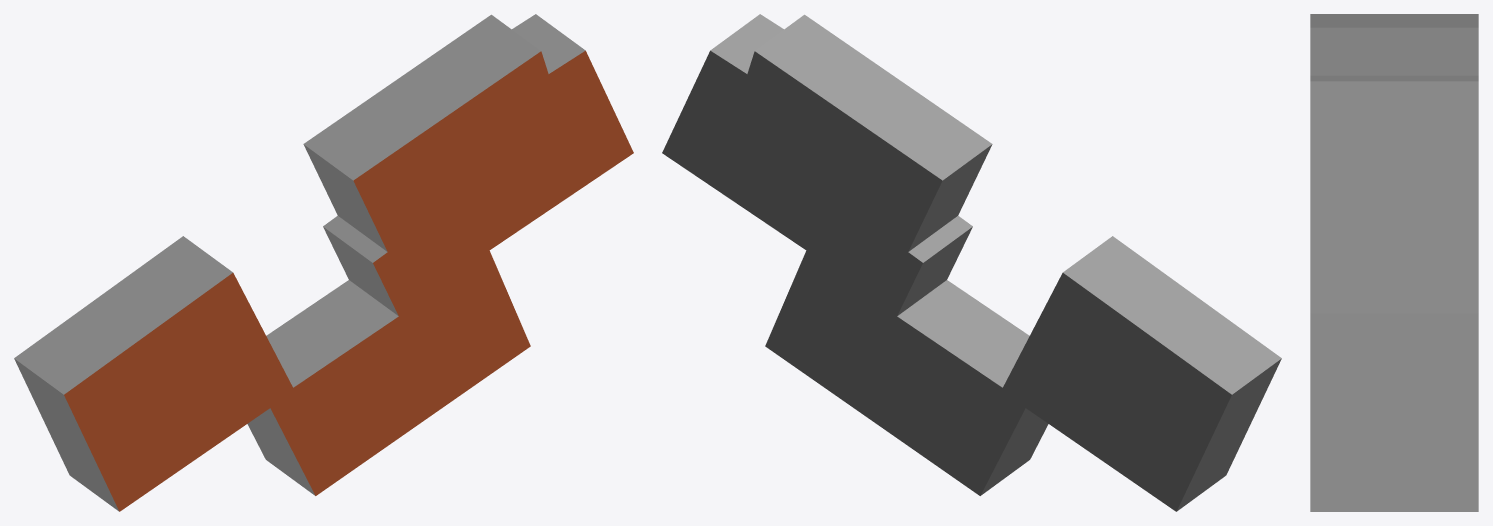
Rendered from construction_3899_assumed_A_Casa_h6m.obj.
3 views of the same model, side by side, from view 1: azimuth 30°, elevation 25°; view 2: azimuth 150°, elevation 25°; view 3: azimuth 270°, elevation 25° (orthographic). The views are drawn at different scales.
Visible parts, largest first — view 1: construction_3899_assumed_A_Casa; view 2: construction_3899_assumed_A_Casa; view 3: construction_3899_assumed_A_Casa.
Part boxes in pixels (x1,y1,x2,y2): construction_3899_assumed_A_Casa: (14, 14, 633, 511); construction_3899_assumed_A_Casa: (662, 14, 1281, 511); construction_3899_assumed_A_Casa: (1310, 14, 1478, 511).
Size of the model in its own units: 39.56 by 25.87 by 6.
